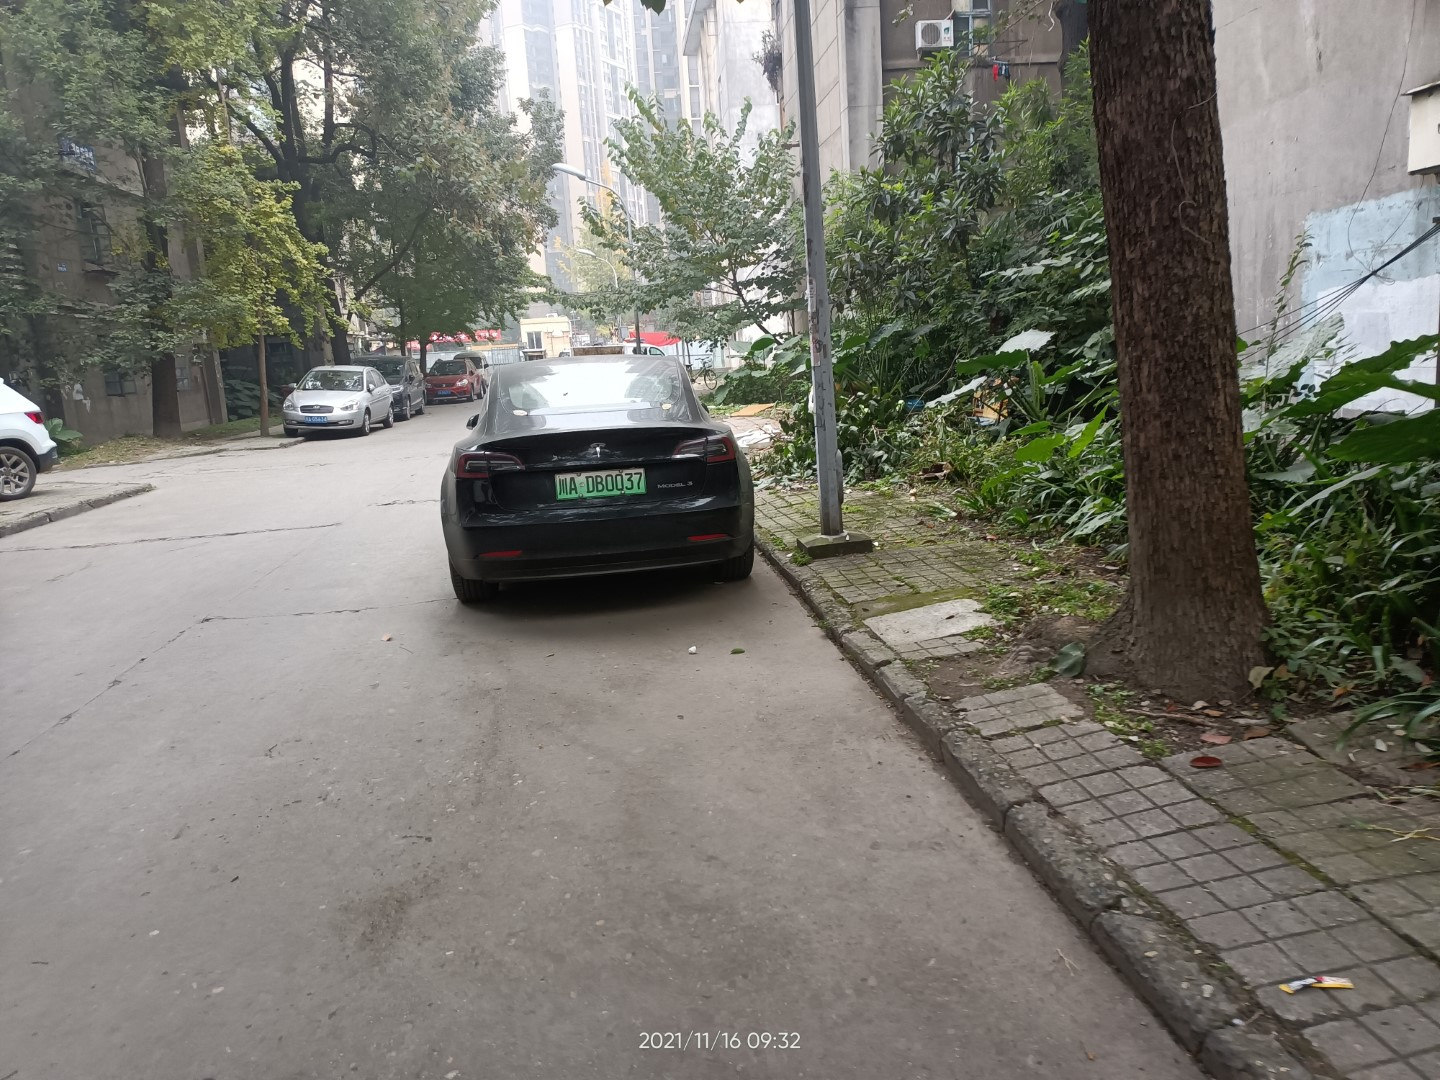plate: (554, 466, 646, 499)
